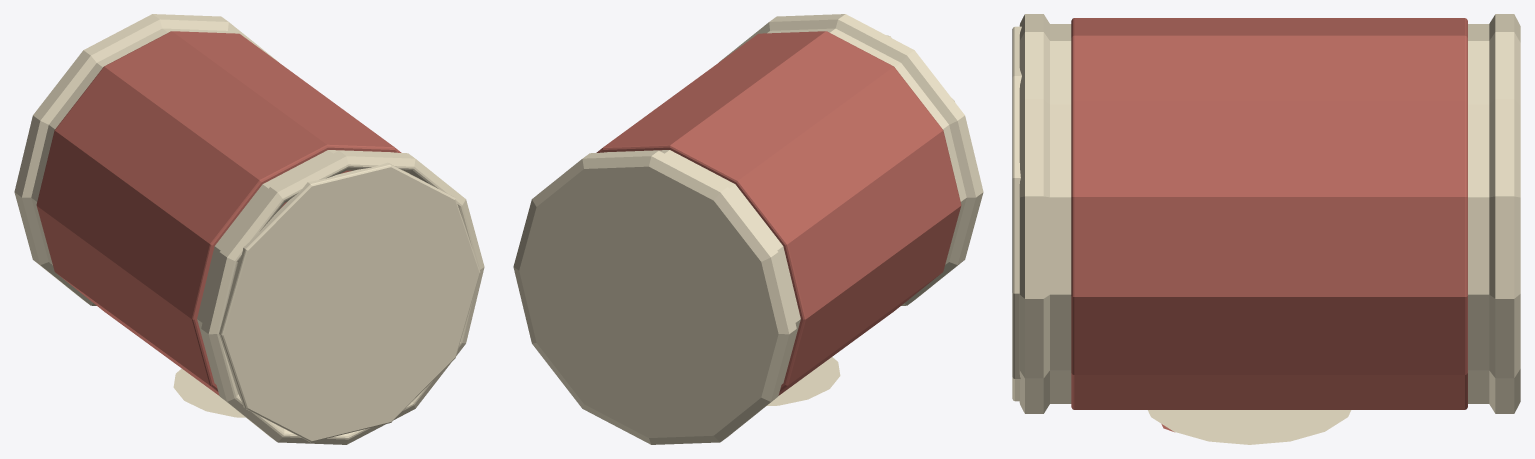
Rendered from tomato_paste.glb.
3 views of the same model, side by side, from view 1: azimuth 30°, elevation 25°; view 2: azimuth 150°, elevation 25°; view 3: azimuth 270°, elevation 25° (orthographic). The views are drawn at different scales.
Parts seen in each view (by area): view 1: tomato_paste; view 2: tomato_paste; view 3: tomato_paste.
Boxes of the visible parts, x1=… form: tomato_paste: x1=14, y1=14, x2=484, y2=444; tomato_paste: x1=513, y1=14, x2=983, y2=444; tomato_paste: x1=1012, y1=14, x2=1520, y2=444.
Size of the model in its own units: 0.064 by 0.0661 by 0.081.
